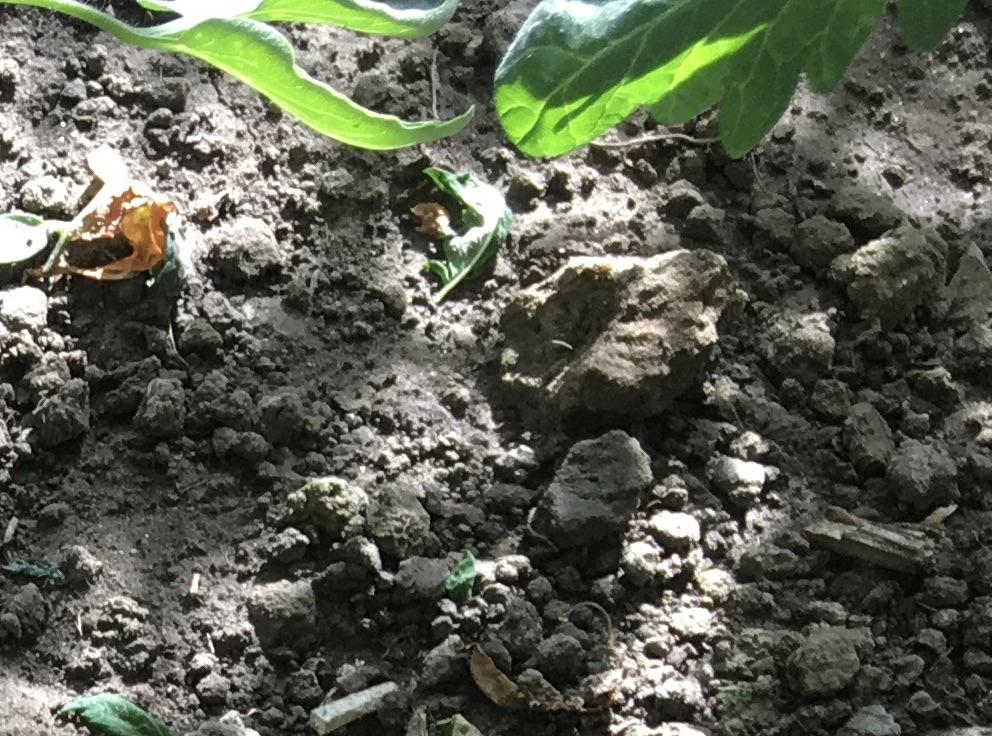block: (507, 244, 737, 420), (535, 427, 655, 549)
